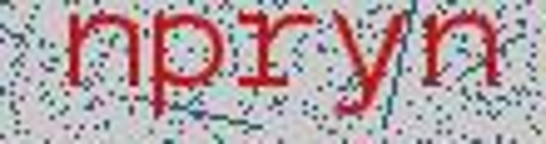n: (421, 4, 505, 107), (60, 5, 142, 100)
p: (146, 3, 223, 133)
r: (235, 4, 317, 105)
y: (325, 6, 410, 129)
